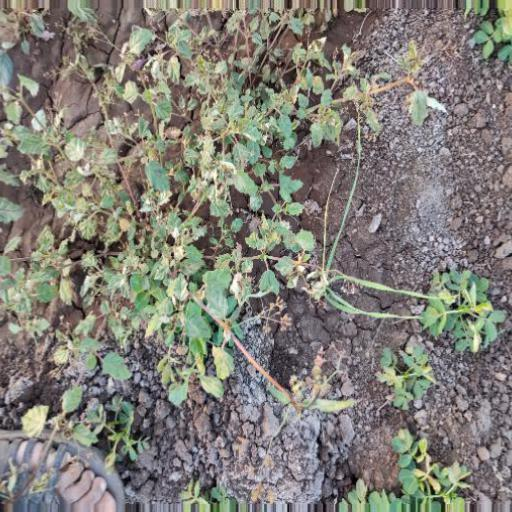weed: (2, 2, 317, 422)
